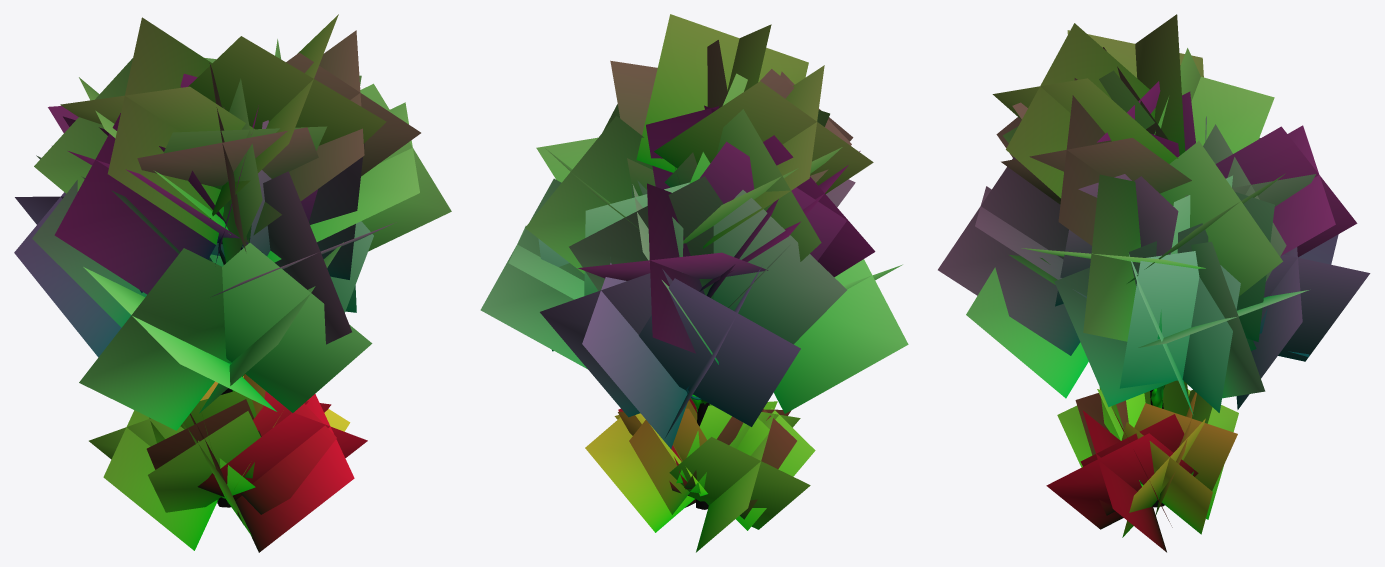
File: M_P12_Tree_1.fbx
3 views of the same model, side by side, from view 1: azimuth 30°, elevation 25°; view 2: azimuth 150°, elevation 25°; view 3: azimuth 270°, elevation 25° (orthographic). The views are drawn at different scales.
Parts seen in each view (by area): view 1: Tree_1; view 2: Tree_1; view 3: Tree_1.
Part boxes in pixels (bbox=[...]): Tree_1: bbox=[14, 14, 451, 552]; Tree_1: bbox=[480, 14, 908, 552]; Tree_1: bbox=[938, 14, 1370, 552].
Bounding box in the file's own units: 170 × 231 × 183.
